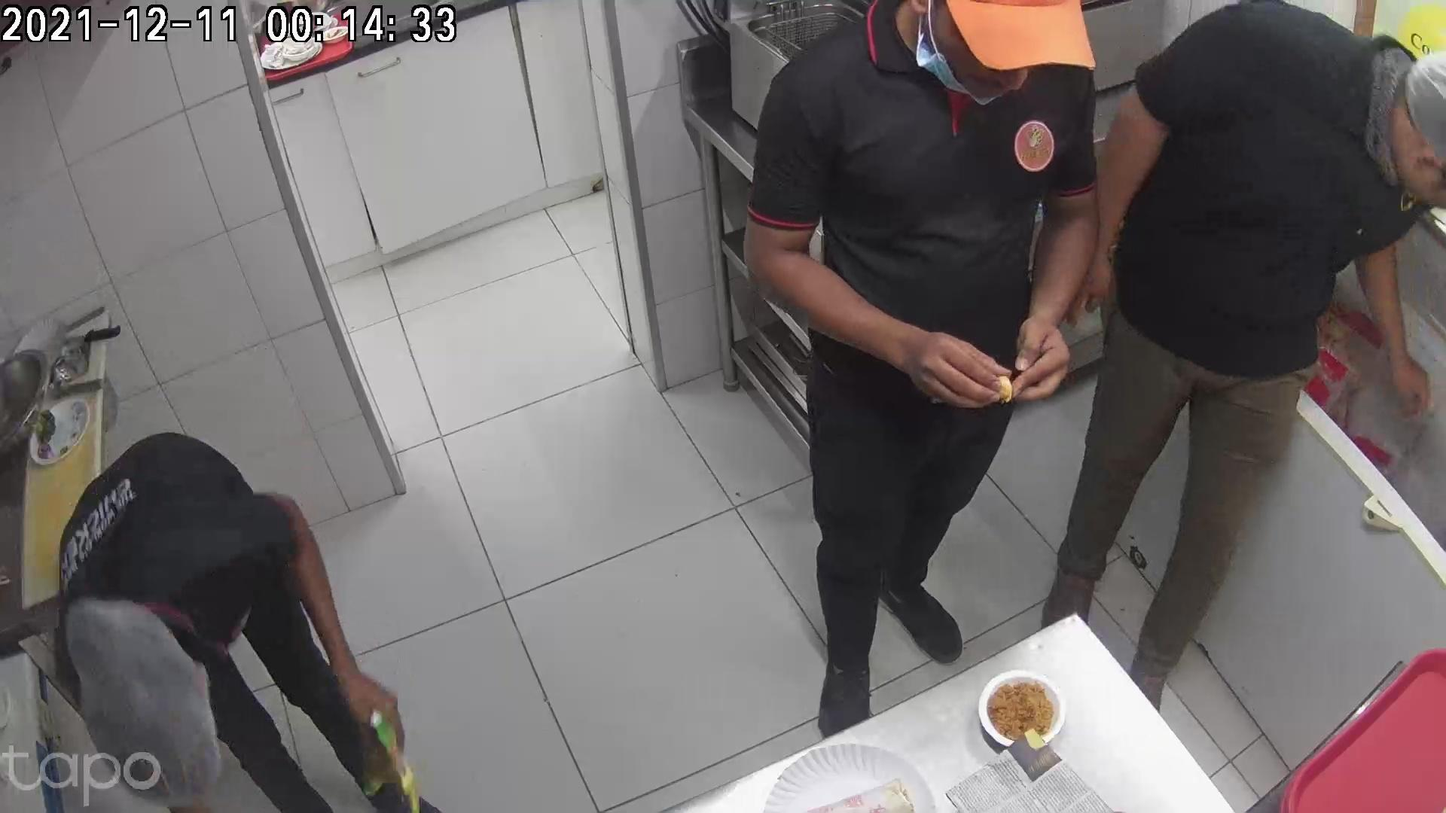no_gloves: (698, 235, 843, 362)
